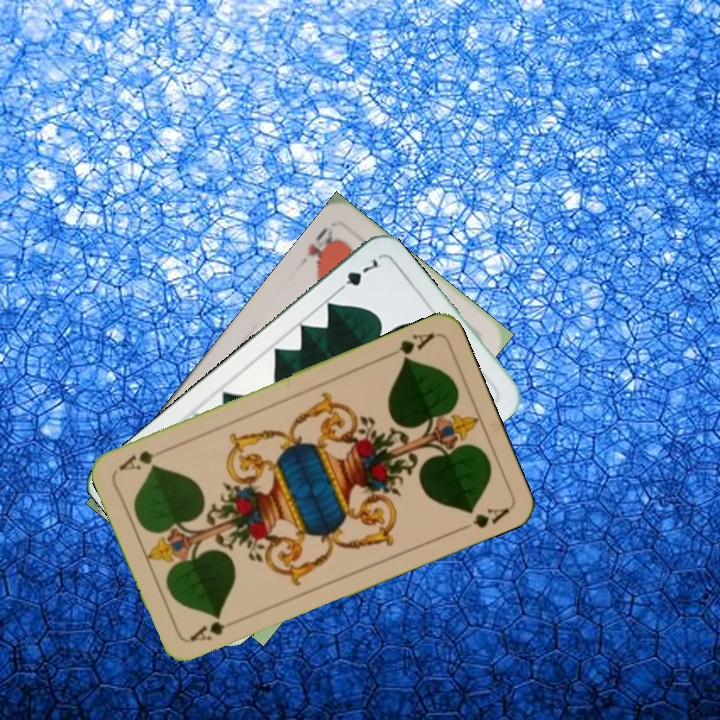G7: (331, 254, 383, 296)
GA: (381, 329, 438, 364), (186, 612, 242, 644)
HO: (294, 222, 341, 271)
